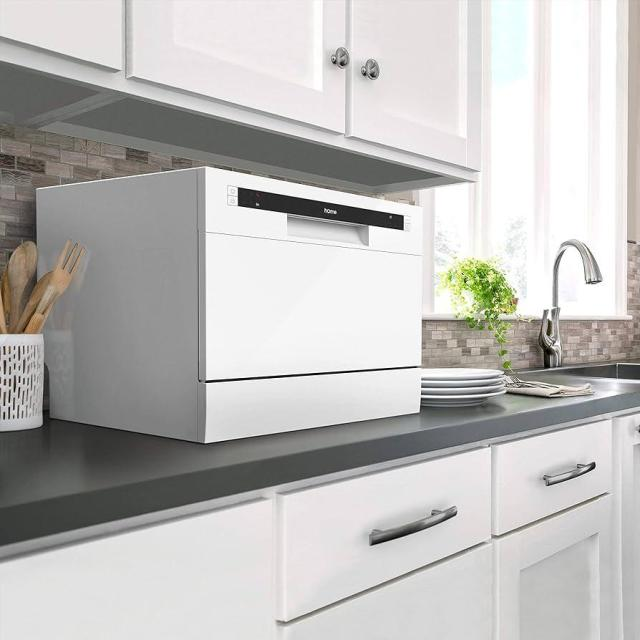dishwasher: (272, 419, 617, 640)
